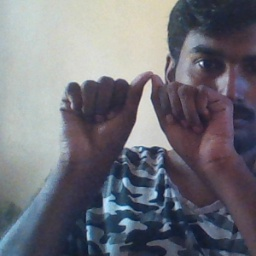A: (72, 69, 222, 162)
